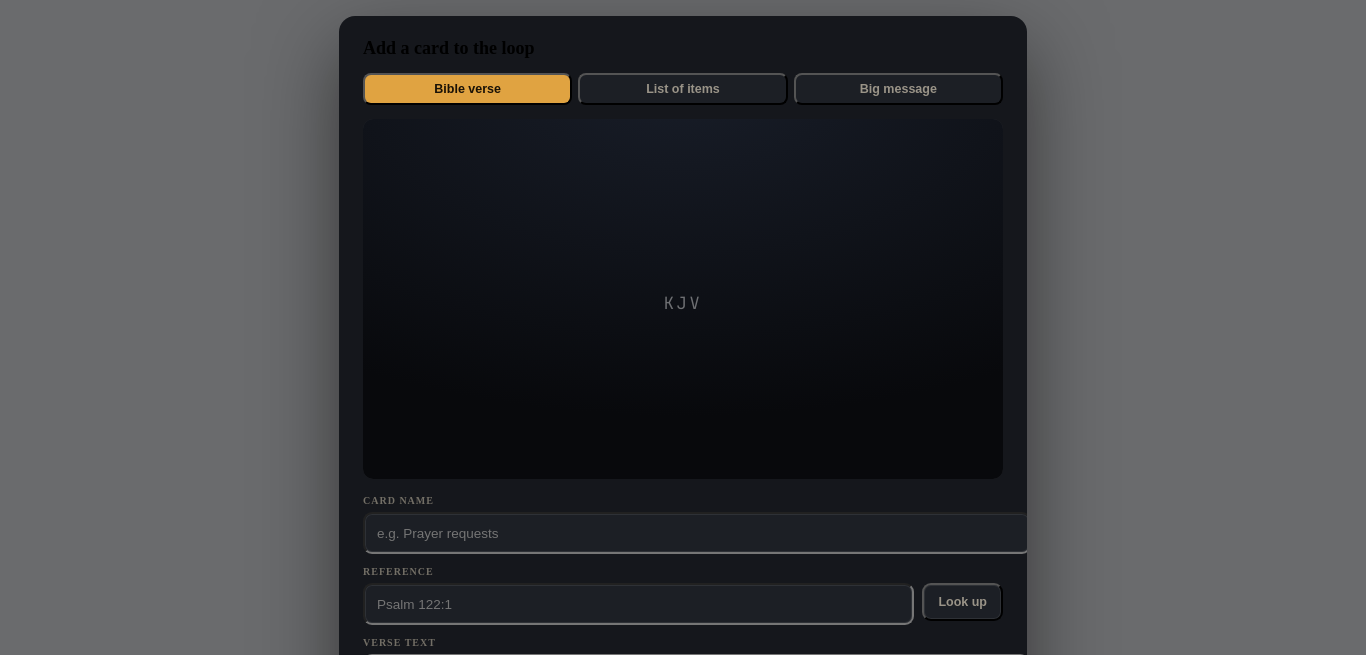
Test case: PreCardEditor verse look-up › shows a message when no Bible is installed
The image size is (1366, 655).
Type "psalm 122:1" into the field with placeholder "Psalm 122:1" at (639, 604), box [363, 583, 914, 625]
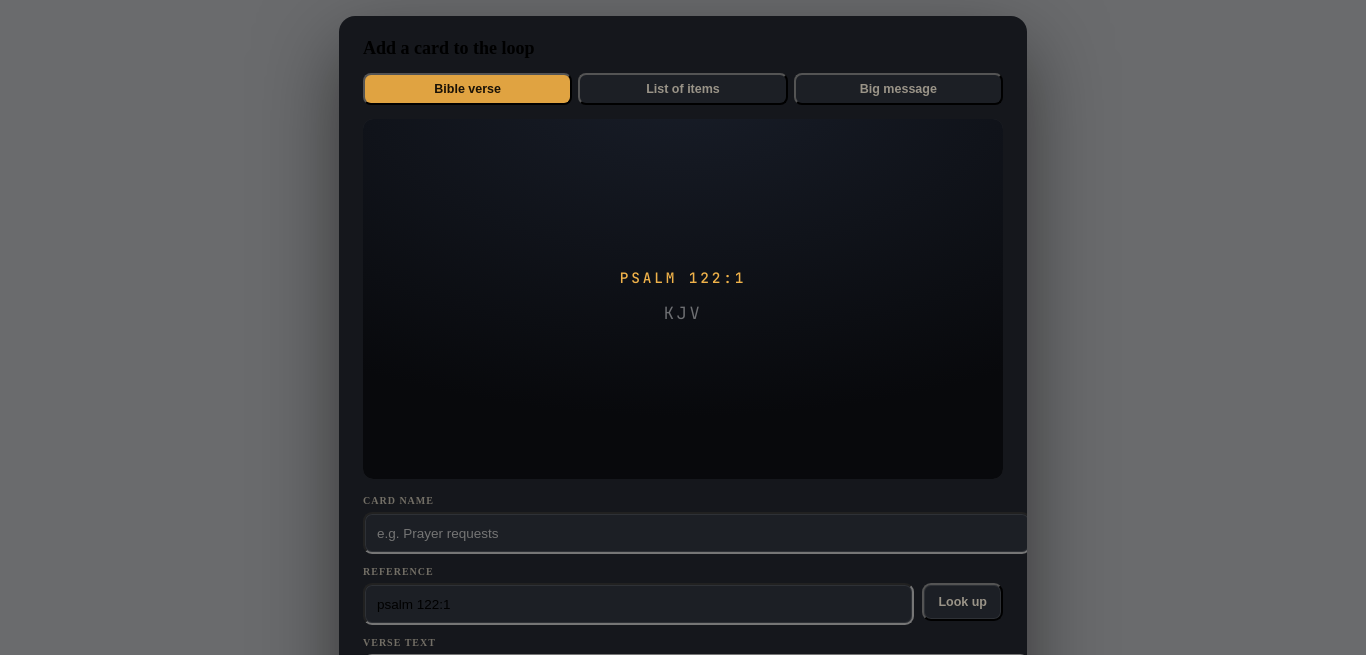
Click the button "Look up" at (963, 602), box [922, 583, 1003, 621]
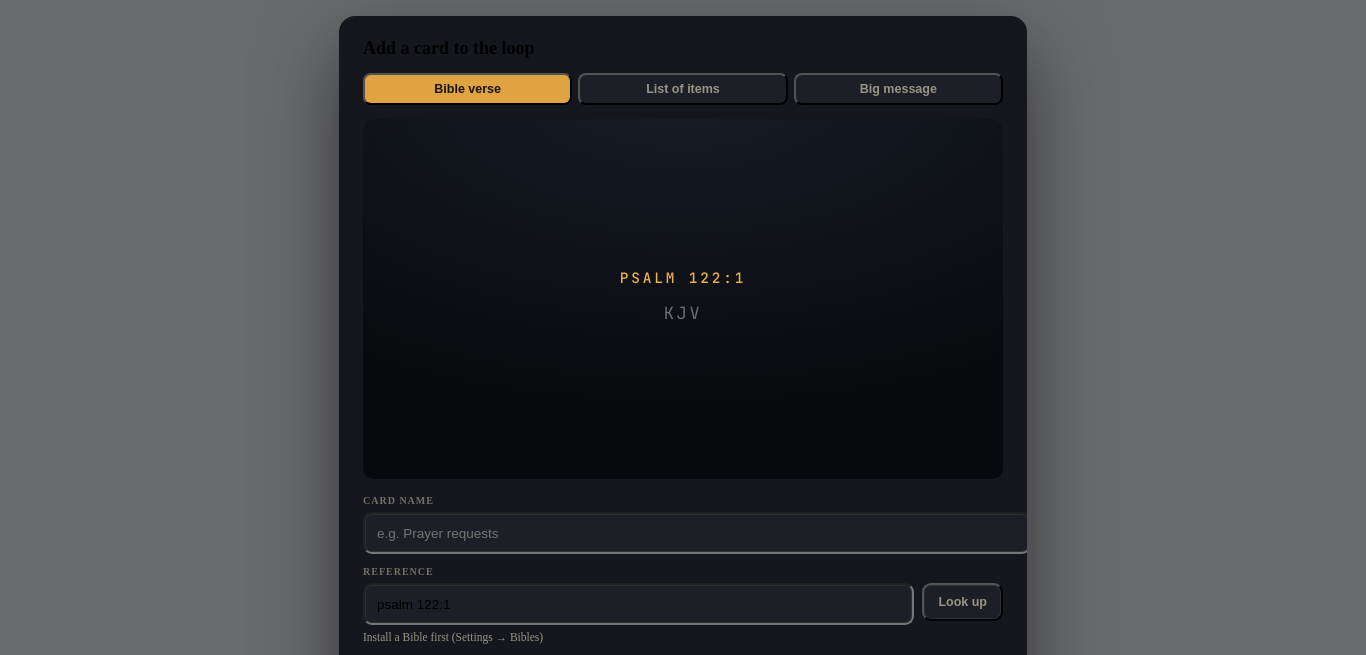
Check: the text "Install a Bible first (Settings → Bibles)" is shown, box [363, 631, 543, 643]
